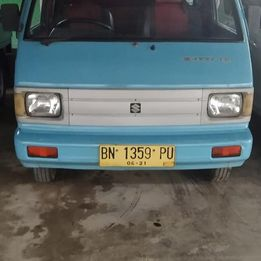plate: (97, 142, 179, 172)
